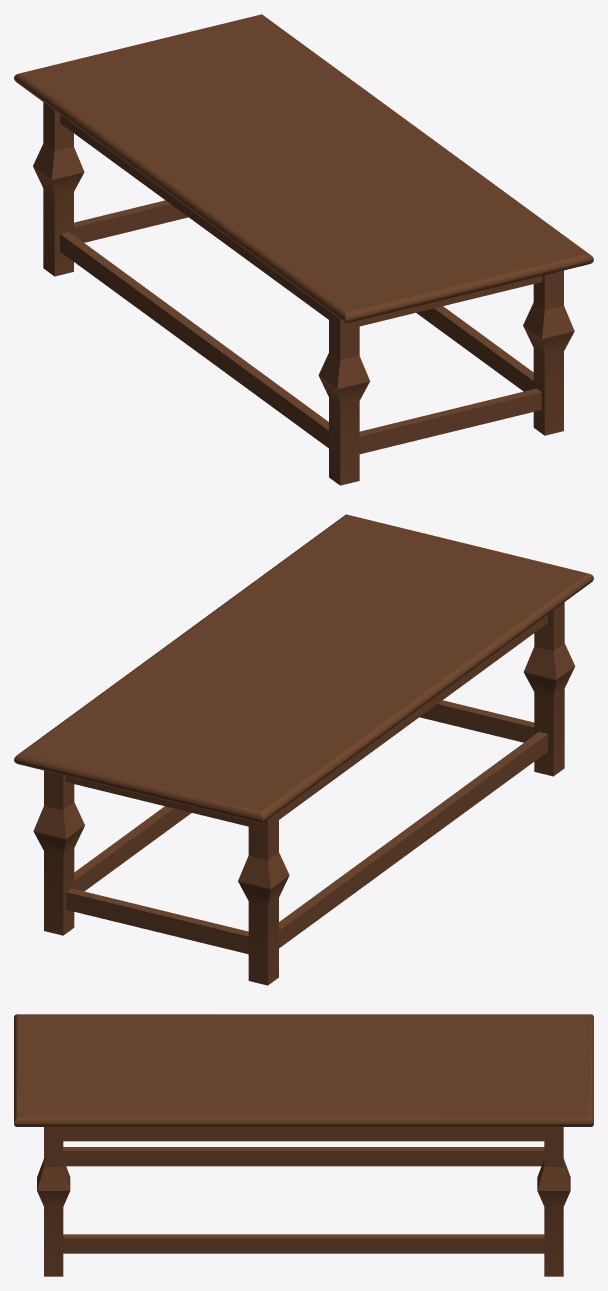
File: GrandeTable_61.fbx
3 renders of one model, top to bottom at view 1: azimuth 30°, elevation 25°; view 2: azimuth 150°, elevation 25°; view 3: azimuth 270°, elevation 25°, orthographic. The views are drawn at different scales.
Visible parts, largest first — view 1: pCube97, pCube99, polySurface27, polySurface24, polySurface26, pCube101, pCube98, pCube100; view 2: pCube97, pCube99, polySurface26, polySurface25, polySurface27, pCube100, pCube98, pCube101; view 3: pCube97, pCube98, pCube99, polySurface25, polySurface24.
Part boxes in pixels (x1=…): pCube97: x1=14, y1=14, x2=593, y2=326; pCube99: x1=60, y1=232, x2=328, y2=448; polySurface27: x1=318, y1=311, x2=369, y2=485; polySurface24: x1=523, y1=270, x2=574, y2=435; polySurface26: x1=33, y1=102, x2=84, y2=276; pCube101: x1=359, y1=388, x2=541, y2=454; pCube98: x1=416, y1=306, x2=533, y2=391; pCube100: x1=74, y1=200, x2=188, y2=242; pCube97: x1=14, y1=514, x2=593, y2=826; pCube99: x1=279, y1=731, x2=547, y2=948; polySurface26: x1=238, y1=811, x2=289, y2=985; polySurface25: x1=33, y1=770, x2=84, y2=935; polySurface27: x1=523, y1=602, x2=575, y2=776; pCube100: x1=66, y1=888, x2=248, y2=954; pCube98: x1=74, y1=806, x2=191, y2=891; pCube101: x1=420, y1=700, x2=534, y2=742; pCube97: x1=14, y1=1014, x2=593, y2=1141; pCube98: x1=63, y1=1234, x2=544, y2=1253; pCube99: x1=63, y1=1147, x2=544, y2=1166; polySurface25: x1=537, y1=1127, x2=570, y2=1276; polySurface24: x1=37, y1=1127, x2=70, y2=1276.
Size of the model in its own units: 56.23 by 40.23 by 130.
